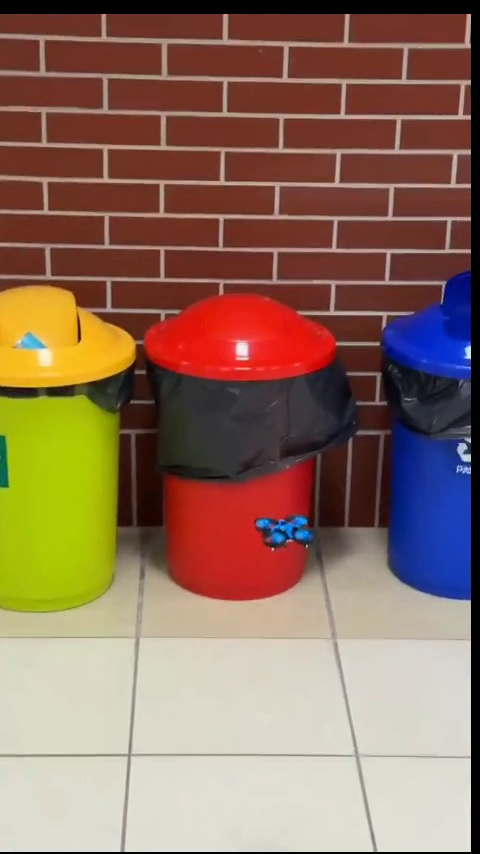drone: (256, 513, 314, 558)
